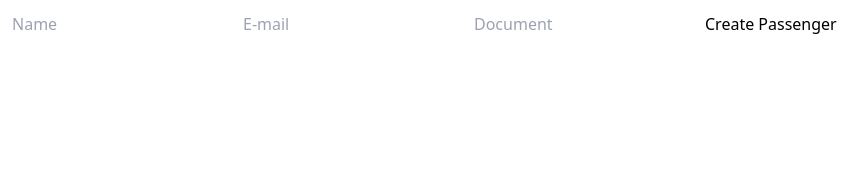
Create Passenger Integration Test › should not be able create a passenger with invalid name
Type "John" into the field with placeholder "Name" at (128, 24), box [12,12,243,36]
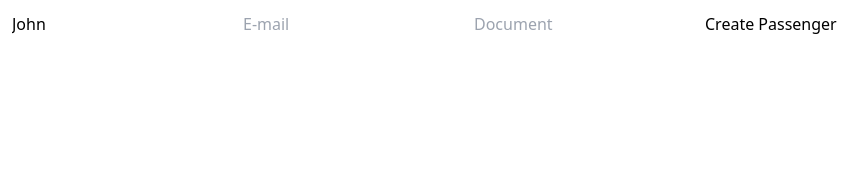
Type "john.doe@gmail.com" into the field with placeholder "E-mail" at (358, 24), box [243,12,474,36]
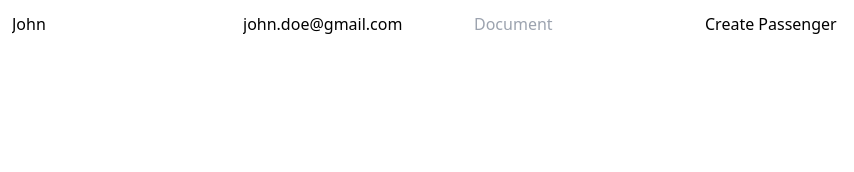
Type "83432616074" into the field with placeholder "Document" at (590, 24), box [474,12,705,36]
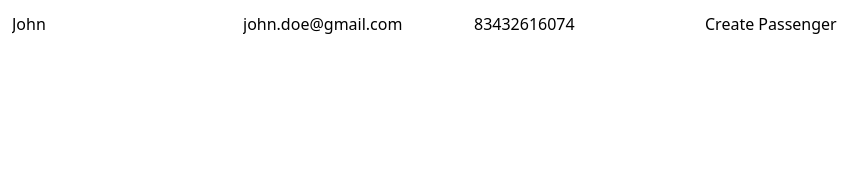
Click the button with class "create-passenger" at (771, 24), box [705,12,837,36]
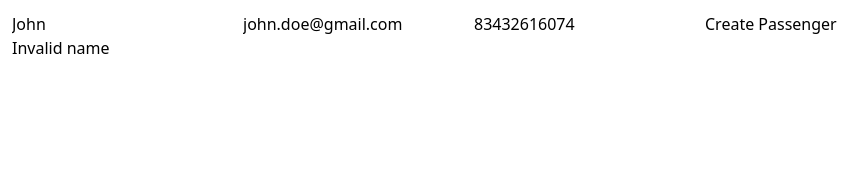
Expected: the text with class "error" reads "Invalid name", [12,37,110,59]
